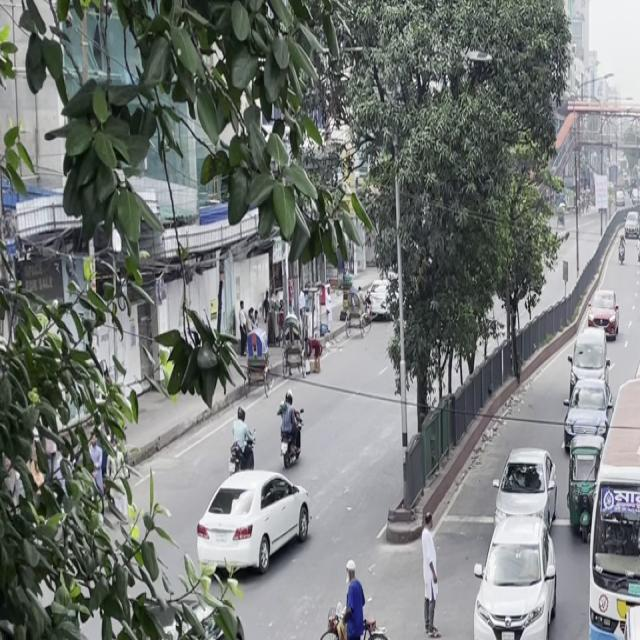bicycle: (311, 561, 401, 640)
bus: (586, 375, 640, 639)
car: (190, 465, 315, 589), (467, 493, 563, 640), (594, 587, 640, 640), (590, 288, 622, 341), (639, 244, 640, 284)
